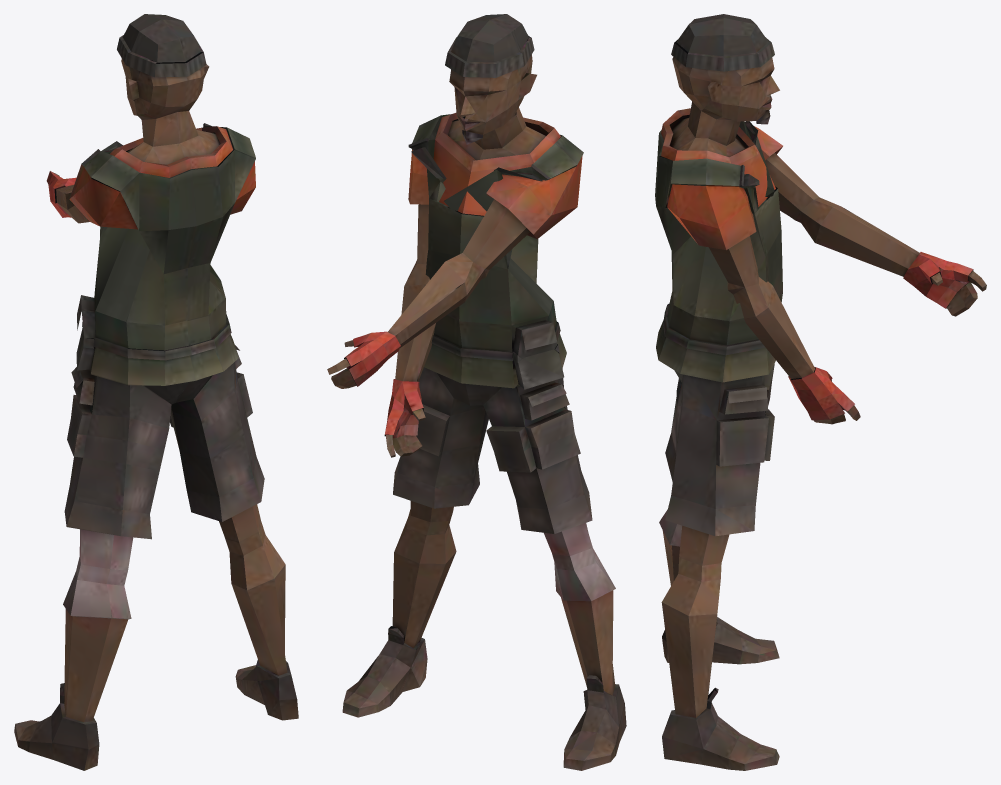
File: inf_enemy_1.glb
The picture shows the model from 3 angles, left to right: view 1: azimuth 30°, elevation 25°; view 2: azimuth 150°, elevation 25°; view 3: azimuth 270°, elevation 25°; orthographic projection.
Parts seen in each view (by area): view 1: inf_enemy_1; view 2: inf_enemy_1; view 3: inf_enemy_1.
Boxes of the visible parts, bbox=[...] form: inf_enemy_1: bbox=[14, 14, 298, 770]; inf_enemy_1: bbox=[327, 14, 626, 770]; inf_enemy_1: bbox=[655, 14, 986, 770].
Bounding box in the file's own units: 0.6933 × 1.76 × 0.7673.
Materials: 1 (1 with a texture image).
